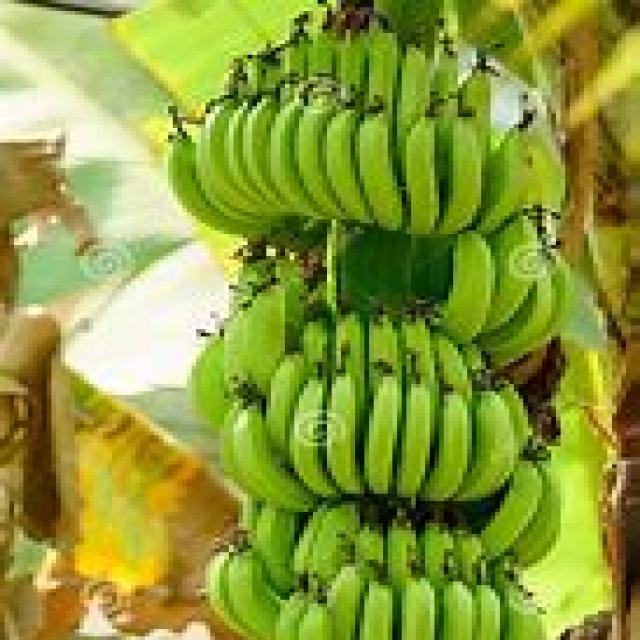Banana: (194, 13, 574, 232), (205, 286, 526, 492), (202, 505, 558, 640)
